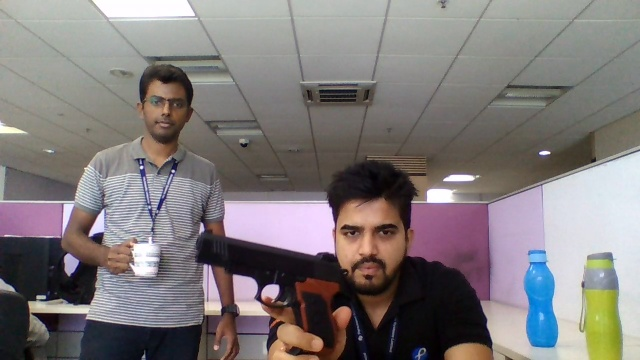gun: (196, 232, 339, 328)
